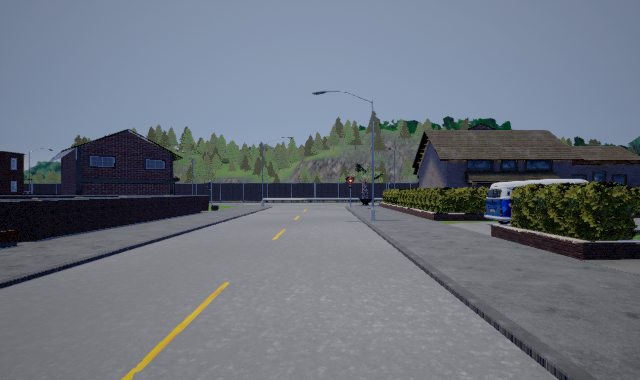vehicle: (484, 179, 589, 224)
